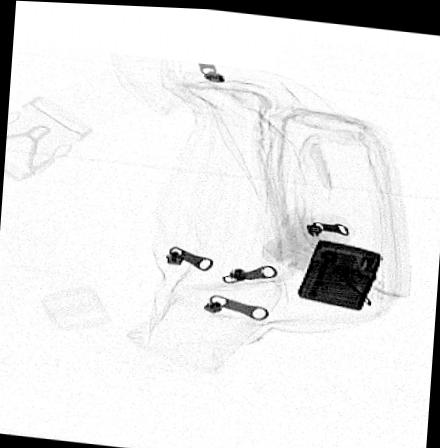Lighter: (295, 234, 381, 307)
